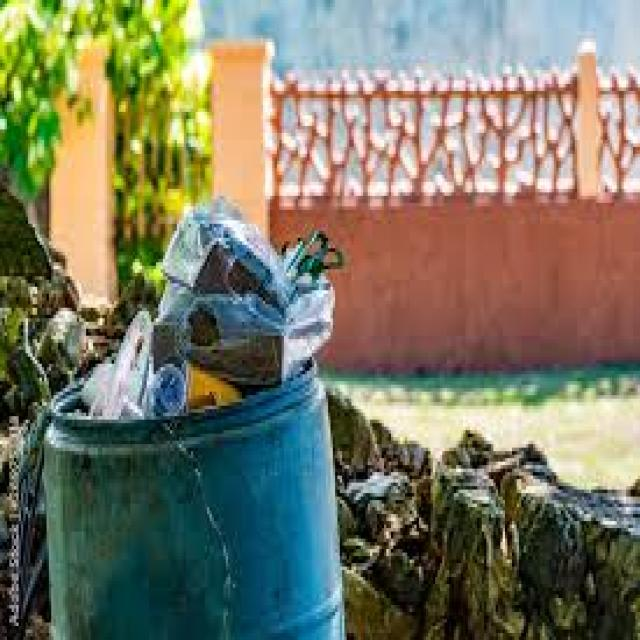plastic: (74, 325, 196, 423)
trash: (200, 186, 342, 374)
